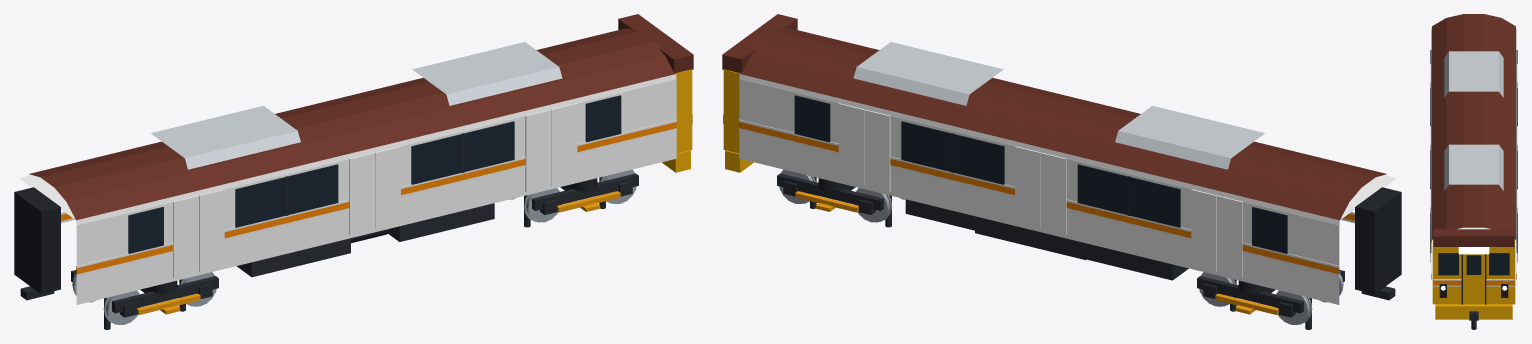
Rendered from tokyo-metro-1000-lead.glb.
3 renders of one model, left to right at view 1: azimuth 30°, elevation 25°; view 2: azimuth 150°, elevation 25°; view 3: azimuth 270°, elevation 25°, orthographic. The views are drawn at different scales.
Visible parts, largest first — view 1: Roof_Maroon_Crown, Body_Shell, Doors_And_Windows, Roof_HVAC (×2), Car_Canonical, Gangway_Rear, Underfloor_Equipment, Lead_Cab_Front, Bogie_Rear, Bogie_Front, Door_R_2_Rear, Door_R_3_Rear (+5 smaller); view 2: Roof_Maroon_Crown, Body_Shell, Doors_And_Windows, Roof_HVAC (×2), Car_Canonical, Gangway_Rear, Underfloor_Equipment, Lead_Cab_Front, Bogie_Rear, Bogie_Front, Door_L_2_Rear, Door_L_3_Rear (+5 smaller); view 3: Roof_Maroon_Crown, Lead_Cab_Front, Roof_HVAC (×2), Doors_And_Windows, Body_Shell, Destination_Sign_Front.
Boxes of the visible parts, x1,y1,x2,y2 form: Roof_Maroon_Crown: [29, 28, 675, 220]; Body_Shell: [19, 74, 676, 304]; Doors_And_Windows: [128, 95, 621, 253]; Roof_HVAC (×2): [151, 42, 562, 169]; Car_Canonical: [61, 119, 676, 276]; Gangway_Rear: [14, 187, 60, 300]; Underfloor_Equipment: [236, 203, 494, 277]; Lead_Cab_Front: [618, 14, 693, 172]; Bogie_Rear: [71, 270, 218, 317]; Bogie_Front: [532, 173, 638, 214]; Door_R_2_Rear: [349, 152, 375, 234]; Door_R_3_Rear: [525, 109, 551, 191]; Roof_Maroon_Crown: [740, 28, 1386, 220]; Body_Shell: [739, 74, 1396, 304]; Doors_And_Windows: [794, 95, 1287, 253]; Roof_HVAC (×2): [853, 42, 1264, 169]; Car_Canonical: [739, 119, 1354, 276]; Gangway_Rear: [1355, 187, 1401, 300]; Underfloor_Equipment: [905, 199, 1188, 280]; Lead_Cab_Front: [722, 14, 797, 172]; Bogie_Rear: [1197, 270, 1344, 317]; Bogie_Front: [777, 173, 883, 214]; Door_L_2_Rear: [1040, 152, 1066, 234]; Door_L_3_Rear: [864, 109, 890, 191]; Roof_Maroon_Crown: [1432, 14, 1515, 239]; Lead_Cab_Front: [1432, 229, 1515, 320]; Roof_HVAC (×2): [1444, 51, 1503, 190]; Doors_And_Windows: [1430, 50, 1517, 253]; Body_Shell: [1431, 28, 1516, 242]; Destination_Sign_Front: [1458, 247, 1489, 254].
Bounding box in the file's own units: 16.4 × 4.05 × 2.63.
